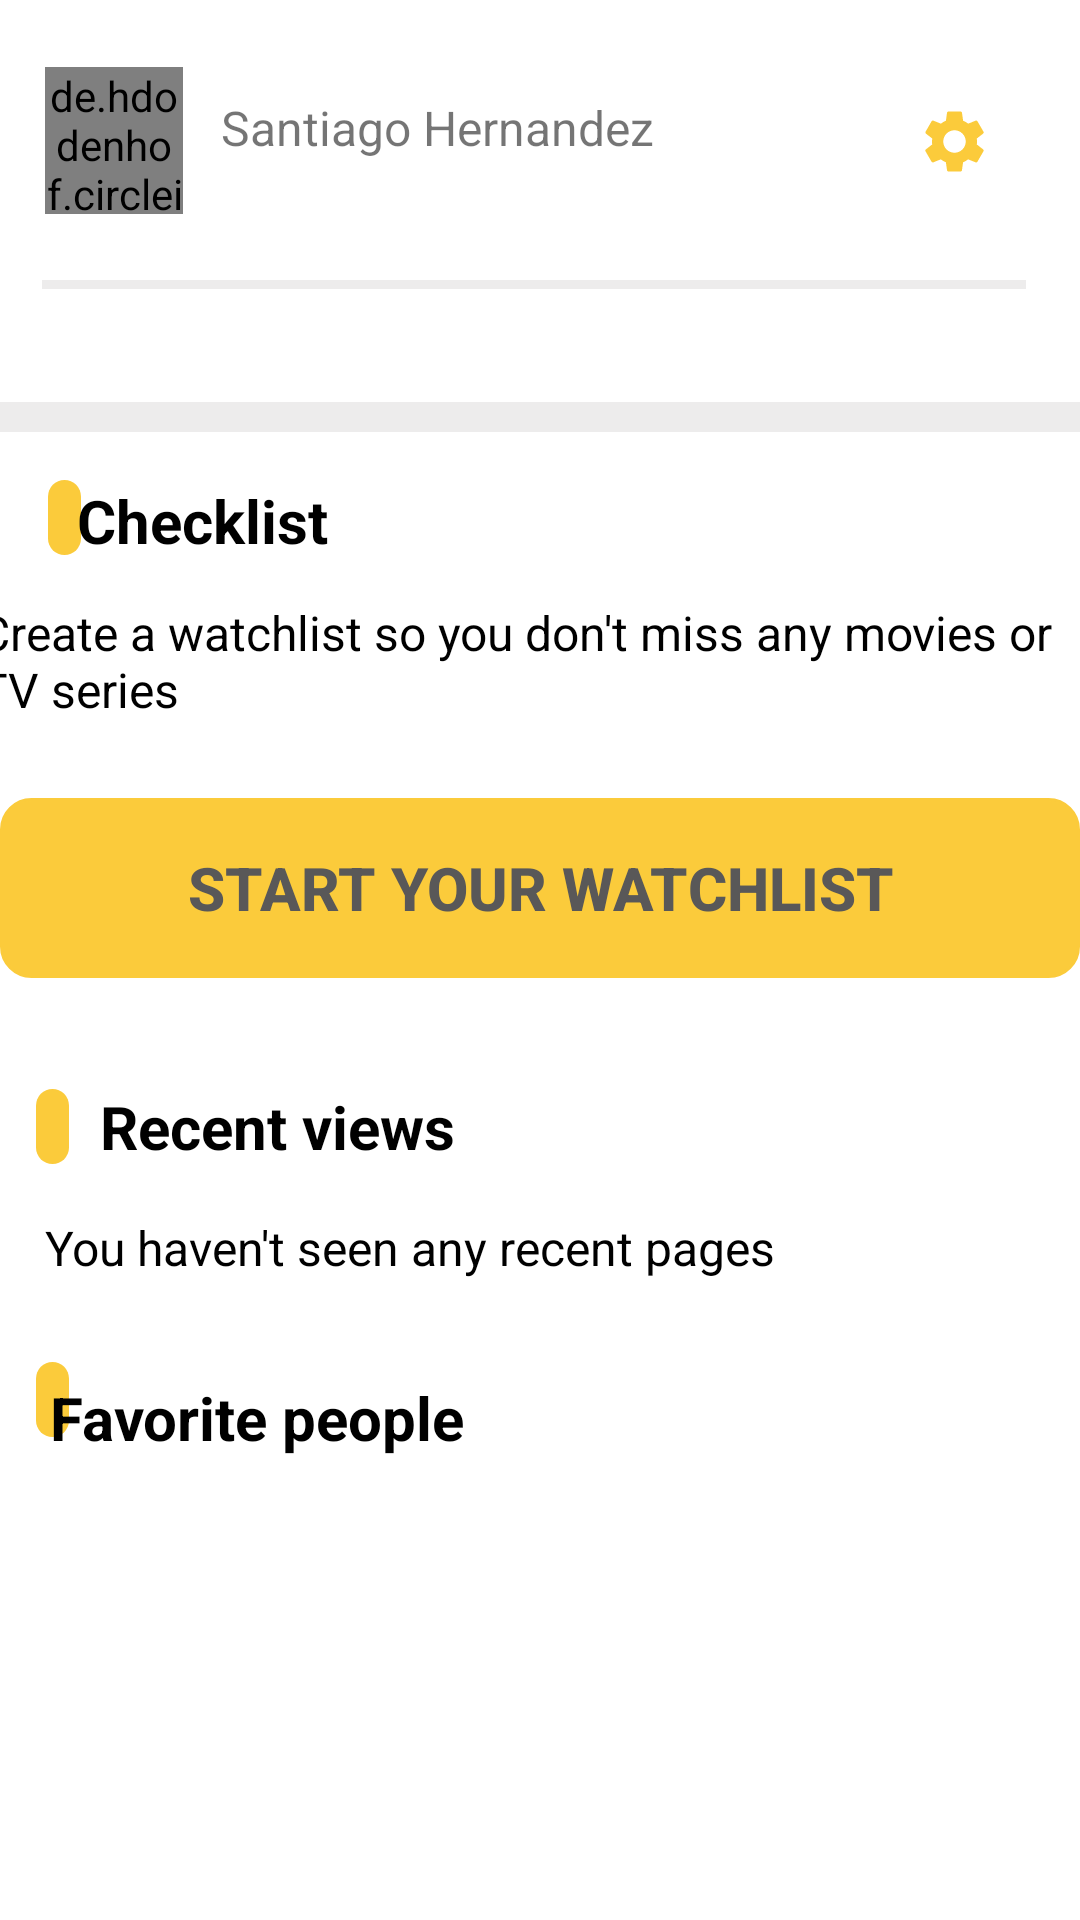

Named icons in this screenshot (1080*1920) and their centers, [x,y]:
settings: [954,141]
